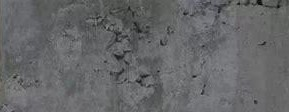Spalling: (84, 5, 174, 89)
